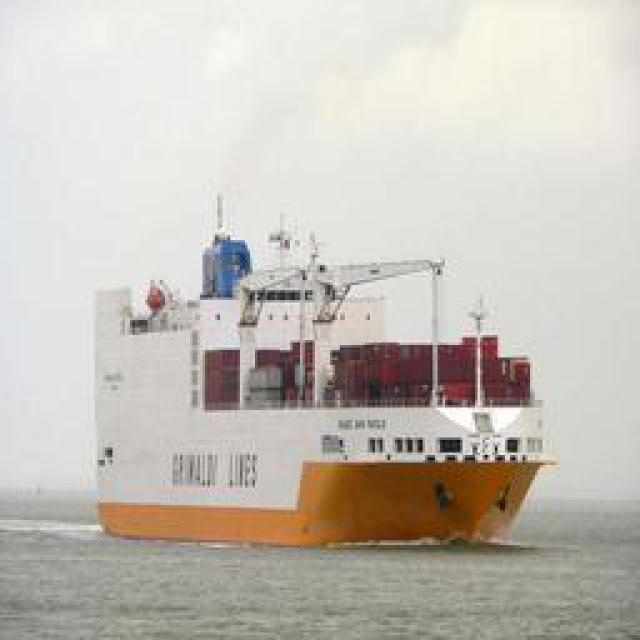Ship: (97, 235, 547, 563)
